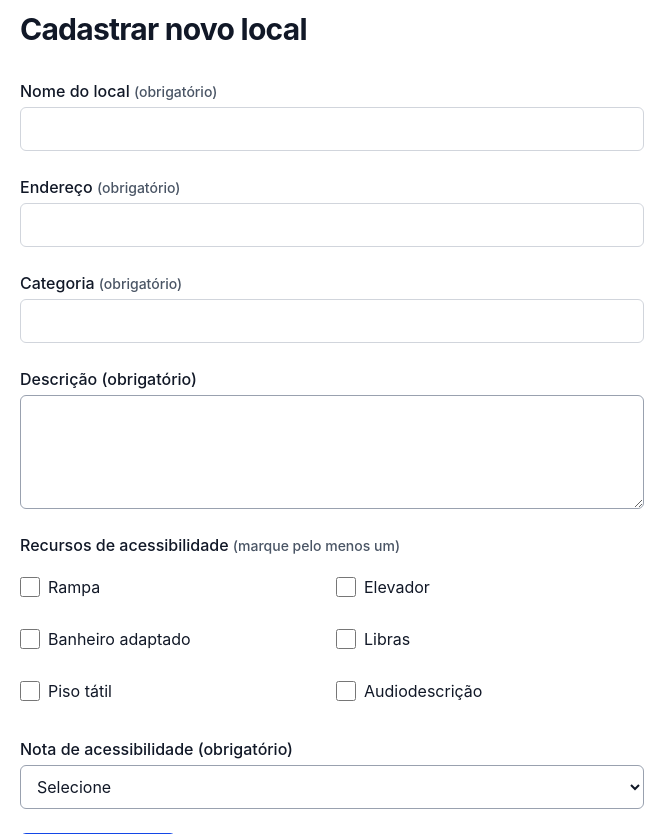
Scenario: Cadastro integrado à API › mantém os dados quando a API falha
The width and height of the screenshot is (665, 834).
In the field labelled "Nome do local (obrigatório)": (332, 129) [20, 107, 644, 151], type "Museu Aberto"
In the field labelled "Endereço (obrigatório)": (332, 225) [20, 203, 644, 247], type "Rua A, 1"
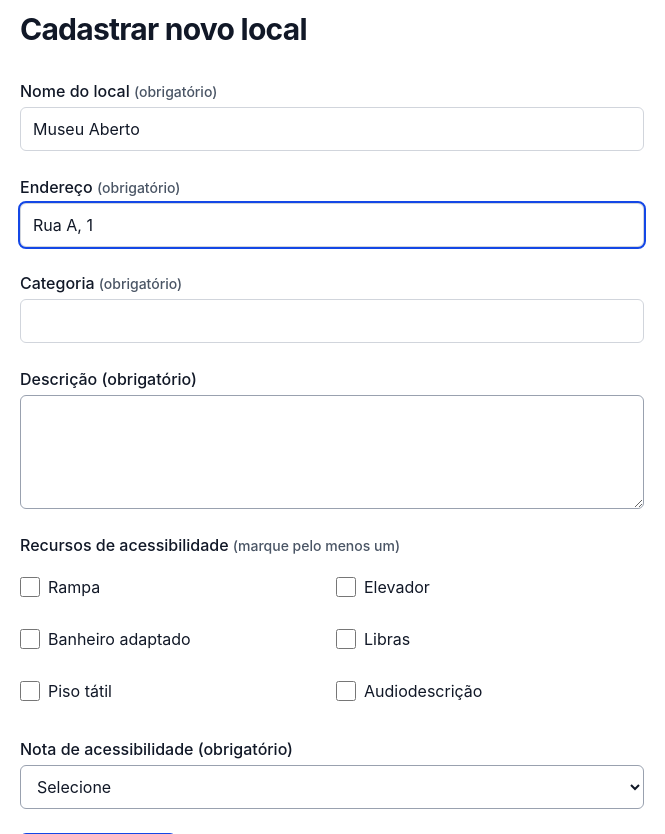
In the field labelled "Categoria (obrigatório)": (332, 321) [20, 299, 644, 343], type "Cultura"
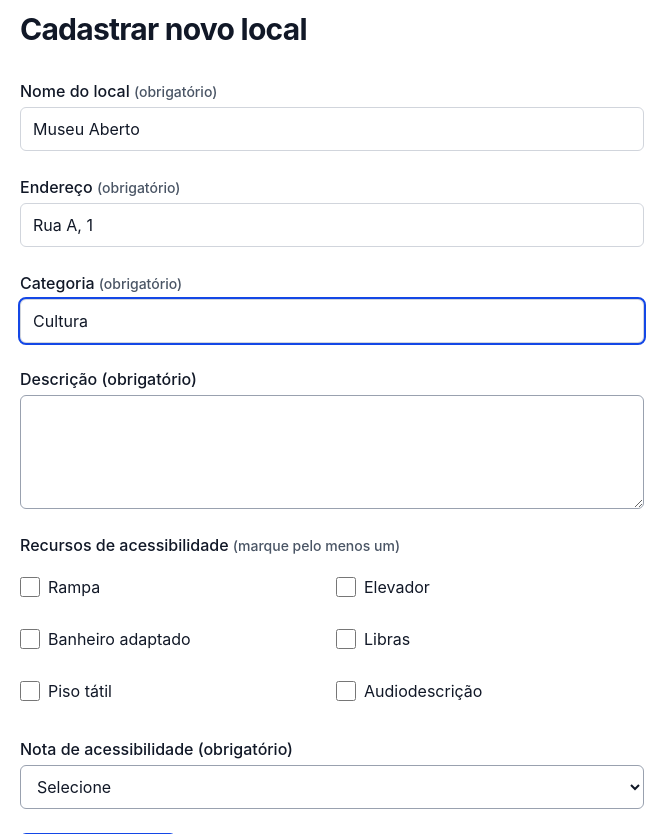
In the text box labelled "Descrição (obrigatório)": (332, 452) [20, 395, 644, 509], type "Museu com rampa"
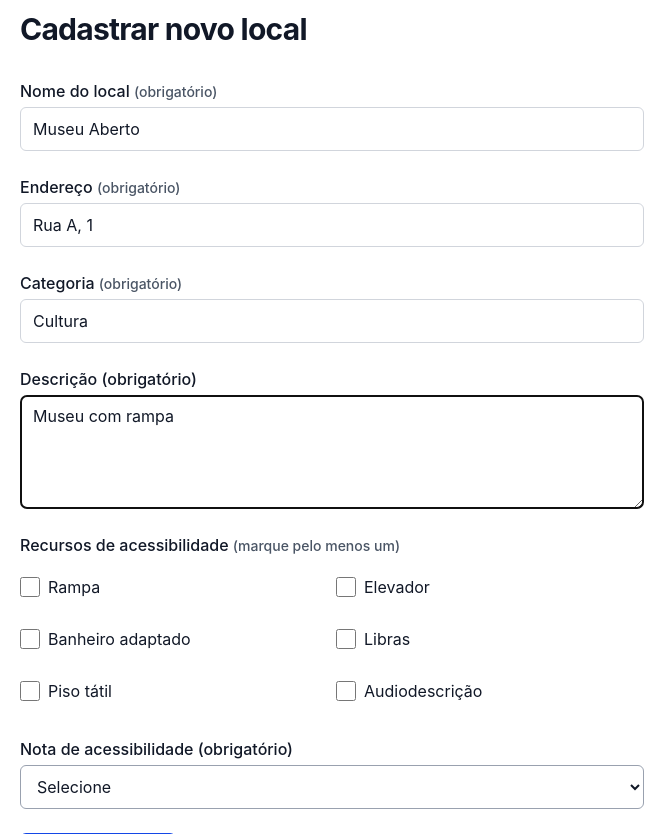
Click the checkbox labelled "Rampa": (30, 587) [20, 577, 40, 597]
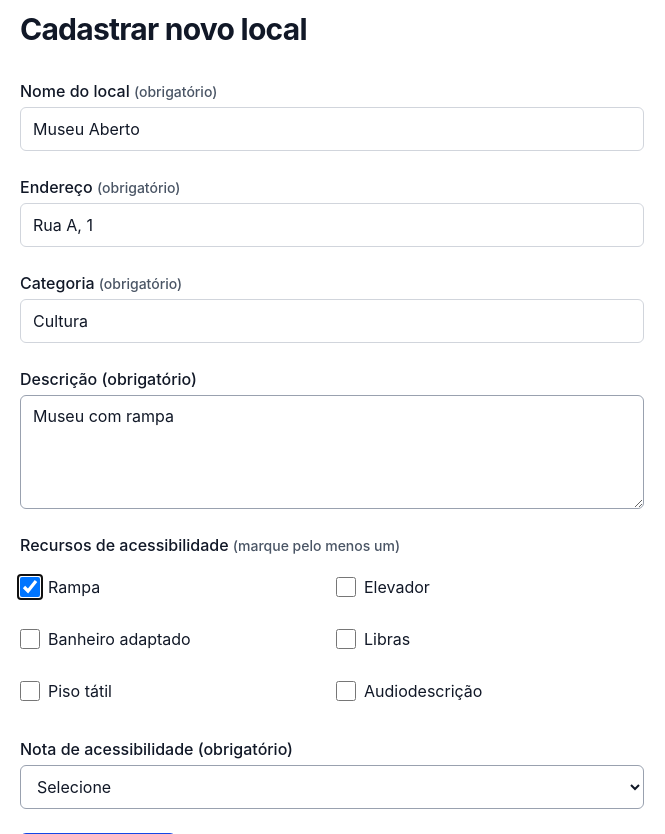
Select "4" in the dropdown labelled "Nota de acessibilidade (obrigatório)": (332, 787) [20, 765, 644, 809]
(page scrolled)
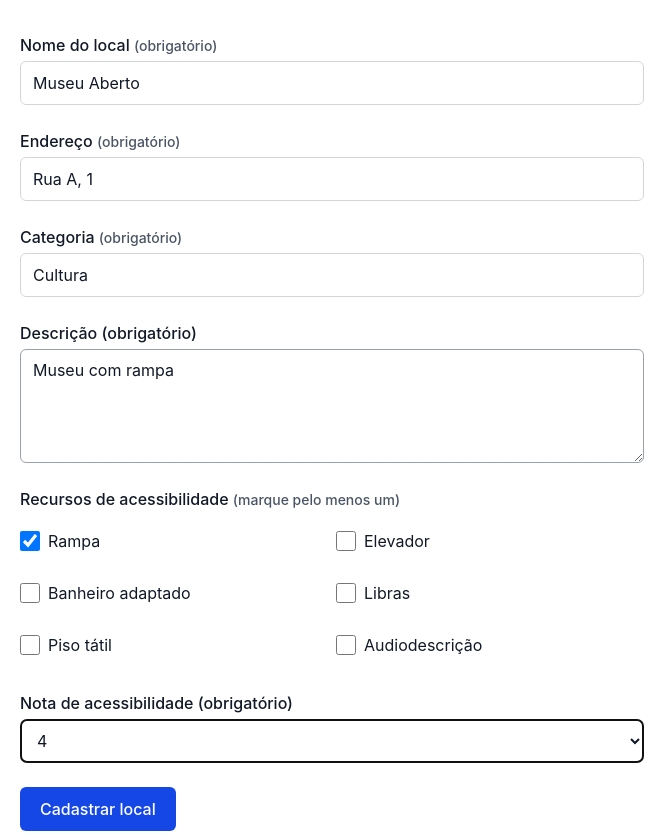
Click the button "Cadastrar local": (98, 809) [20, 787, 176, 831]
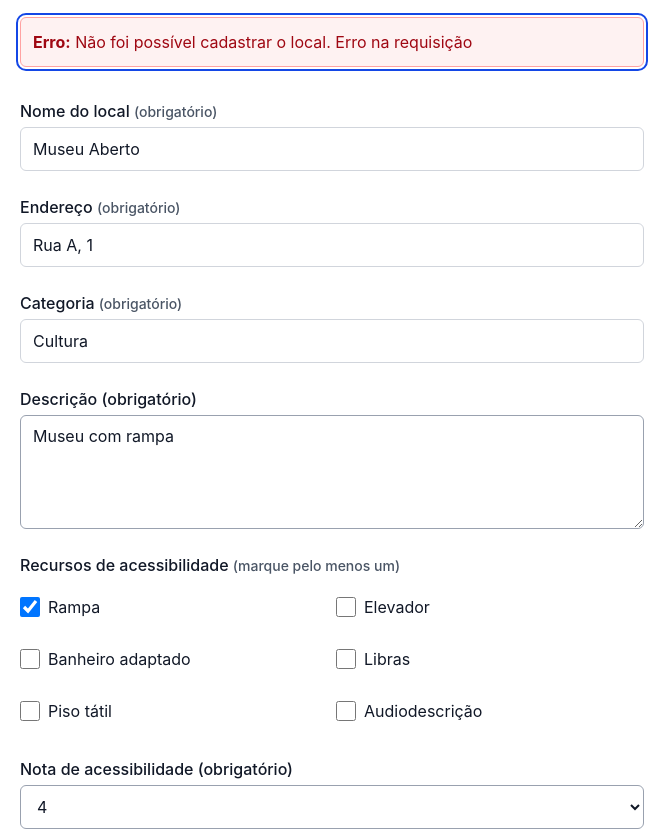
Now the message shows "Não foi possível cadastrar", box [75, 32, 472, 52]
